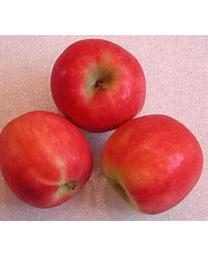apple: (100, 113, 203, 213), (49, 38, 145, 132), (0, 110, 92, 208)
